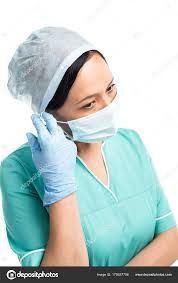with-mask: (45, 57, 139, 149)
